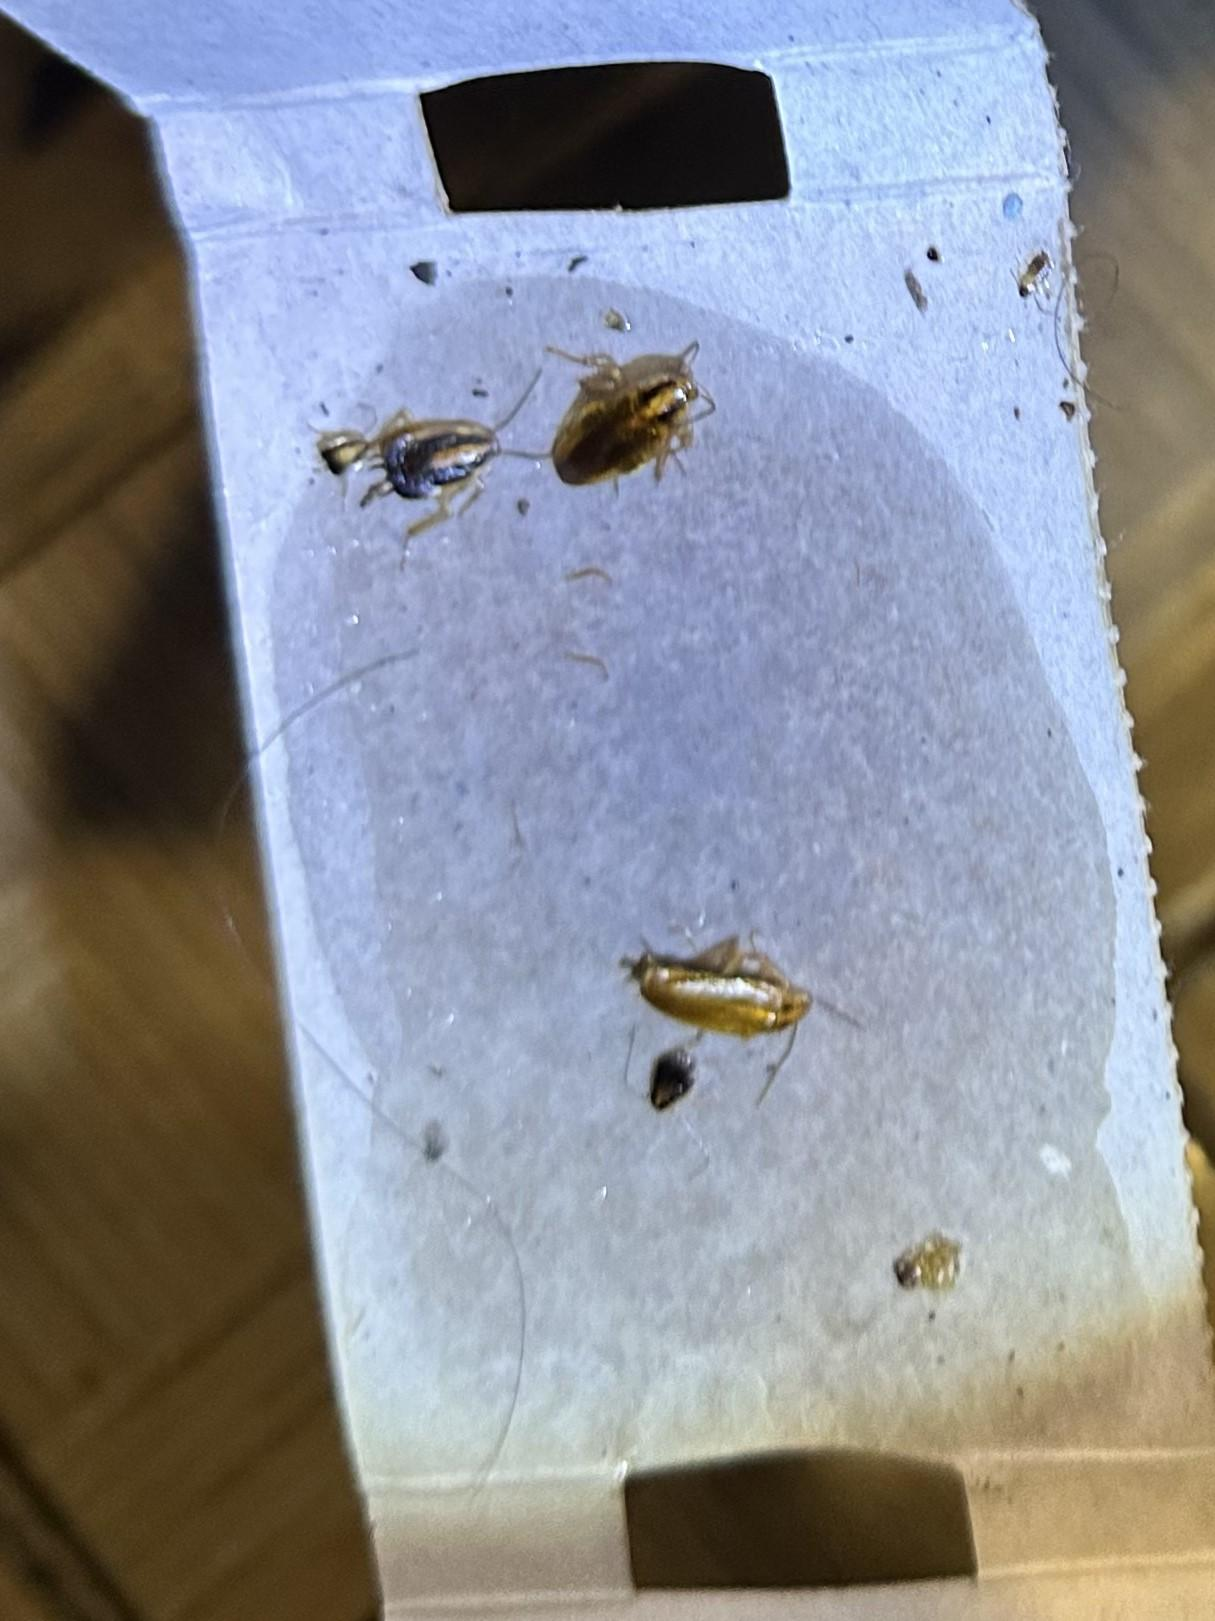cockroach: (579, 874, 878, 1126), (306, 361, 548, 531), (530, 320, 730, 508)
